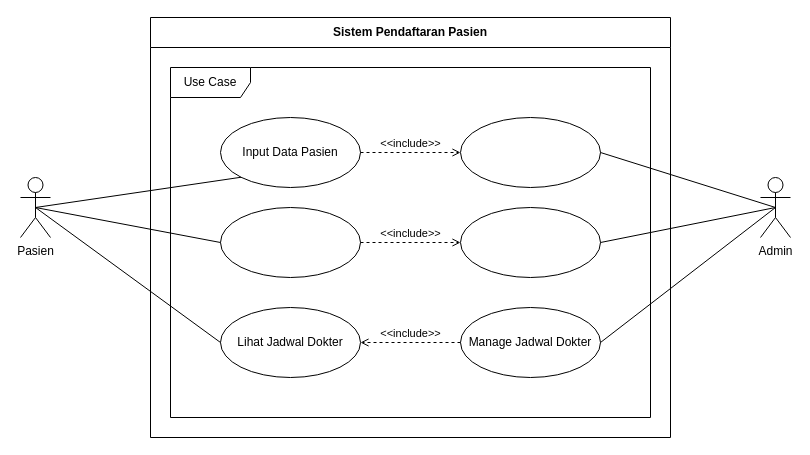
This 810x455 diagram has some shape labels left out. The shapes that lost their labels are listed below. From the top down, each one's centre as x and y in pixels, then its label:
the point at 530,152: Manage Data Pasien
the point at 290,242: Bukti Pendaftaran dan Nomor Antrian
the point at 530,242: Manage Approval Pasien
